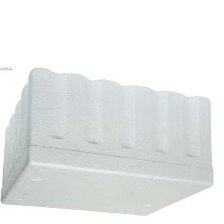foam_box: (0, 64, 217, 219)
